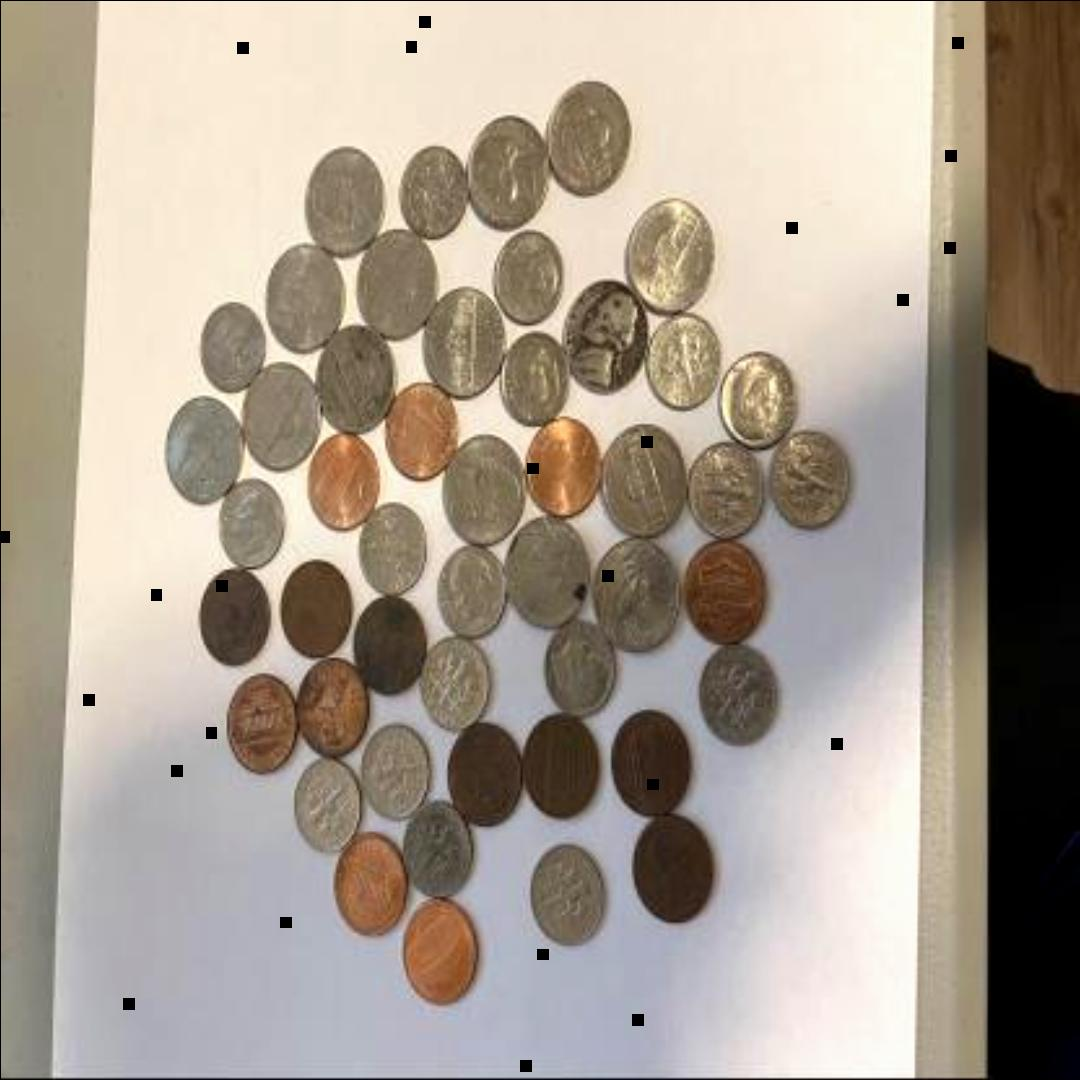Dime: (763, 431, 851, 537), (522, 847, 604, 953), (698, 642, 776, 750), (686, 442, 766, 544), (350, 725, 428, 823), (428, 543, 506, 641), (488, 231, 566, 329), (716, 351, 794, 449), (354, 501, 431, 597), (642, 314, 719, 410), (402, 798, 472, 900), (213, 475, 285, 573), (538, 624, 614, 716), (418, 633, 488, 729), (496, 335, 568, 428), (398, 146, 470, 238), (197, 301, 264, 393), (294, 760, 356, 854)
Nickel: (595, 421, 691, 545), (543, 78, 636, 202), (624, 197, 714, 316), (465, 115, 553, 234), (501, 517, 591, 633), (590, 540, 680, 656), (418, 286, 506, 402), (160, 392, 243, 512), (438, 434, 522, 550), (564, 278, 648, 394), (314, 324, 400, 434), (354, 226, 436, 340), (304, 144, 386, 255), (262, 242, 340, 356), (240, 363, 316, 472)
Penny: (628, 816, 716, 924), (610, 710, 694, 821), (682, 538, 766, 646), (400, 901, 478, 1015), (522, 712, 602, 820), (520, 418, 603, 522), (351, 592, 426, 700), (328, 834, 402, 942), (444, 725, 520, 828), (196, 568, 272, 670), (292, 662, 369, 760), (221, 678, 293, 782), (278, 561, 352, 659), (304, 436, 376, 532), (387, 379, 457, 477)
